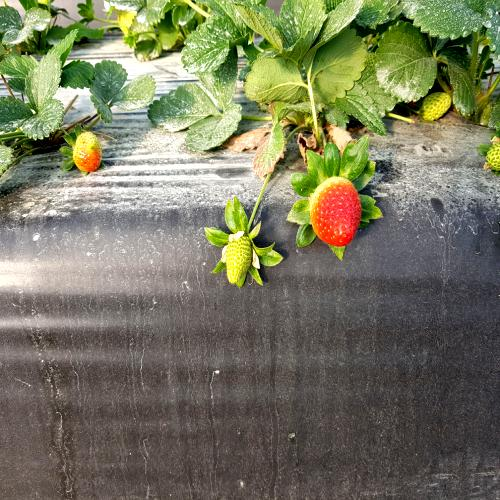partially-ripe: (308, 167, 365, 258)
